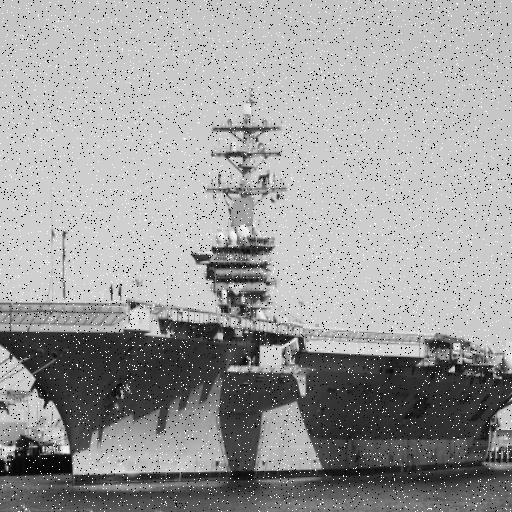Portanaves: (1, 103, 512, 496)
